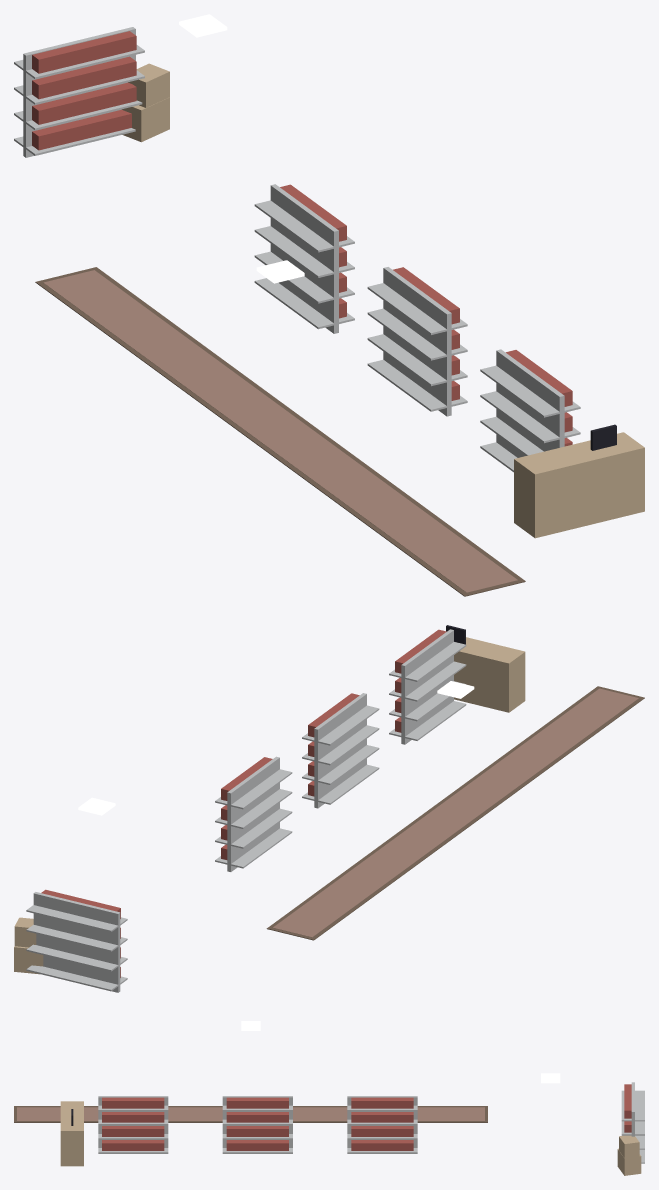
File: fine-s0.glb
3 renders of one model, top to bottom at view 1: azimuth 30°, elevation 25°; view 2: azimuth 150°, elevation 25°; view 3: azimuth 270°, elevation 25°, orthographic. The views are drawn at different scales.
Visible parts, largest first — view 1: soft-s0, shelving.000, shop-counter.000, shelf.001, shelf.000, shelf.002, cardboard-box.000; view 2: soft-s0, shelving.000, shelf.001, shelf.000, shelf.002, shop-counter.000, cardboard-box.000; view 3: soft-s0, shelf.000, shelf.001, shelf.002, shop-counter.000, shelving.000, cardboard-box.000.
Boxes of the visible parts, left/top/right/bottom form: soft-s0: left=35, top=267, right=525, bottom=596; shelving.000: left=14, top=27, right=144, bottom=157; shop-counter.000: left=514, top=424, right=644, bottom=538; shelf.001: left=367, top=267, right=467, bottom=416; shelf.000: left=254, top=184, right=354, bottom=333; shelf.002: left=480, top=349, right=580, bottom=472; cardboard-box.000: left=122, top=63, right=169, bottom=142; soft-s0: left=266, top=686, right=644, bottom=940; shelving.000: left=26, top=889, right=127, bottom=992; shelf.001: left=302, top=693, right=379, bottom=808; shelf.000: left=215, top=756, right=292, bottom=871; shelf.002: left=389, top=629, right=466, bottom=744; shop-counter.000: left=446, top=625, right=525, bottom=712; cardboard-box.000: left=14, top=917, right=43, bottom=974; soft-s0: left=14, top=1106, right=487, bottom=1122; shelf.000: left=347, top=1096, right=417, bottom=1153; shelf.001: left=222, top=1096, right=292, bottom=1153; shelf.002: left=98, top=1096, right=168, bottom=1153; shop-counter.000: left=60, top=1101, right=83, bottom=1166; shelving.000: left=621, top=1082, right=644, bottom=1163; cardboard-box.000: left=617, top=1135, right=641, bottom=1175.
Bounding box in the file's own units: 4.23 × 2.53 × 16.2.
